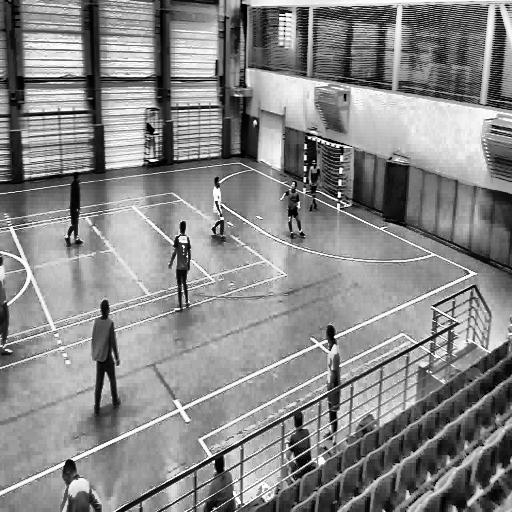ball: (252, 117, 260, 132)
player: (92, 296, 122, 417), (323, 322, 342, 455), (58, 455, 101, 512), (168, 217, 192, 314), (280, 181, 306, 244), (0, 251, 13, 361), (67, 171, 83, 248), (212, 172, 228, 244), (308, 156, 322, 214)
